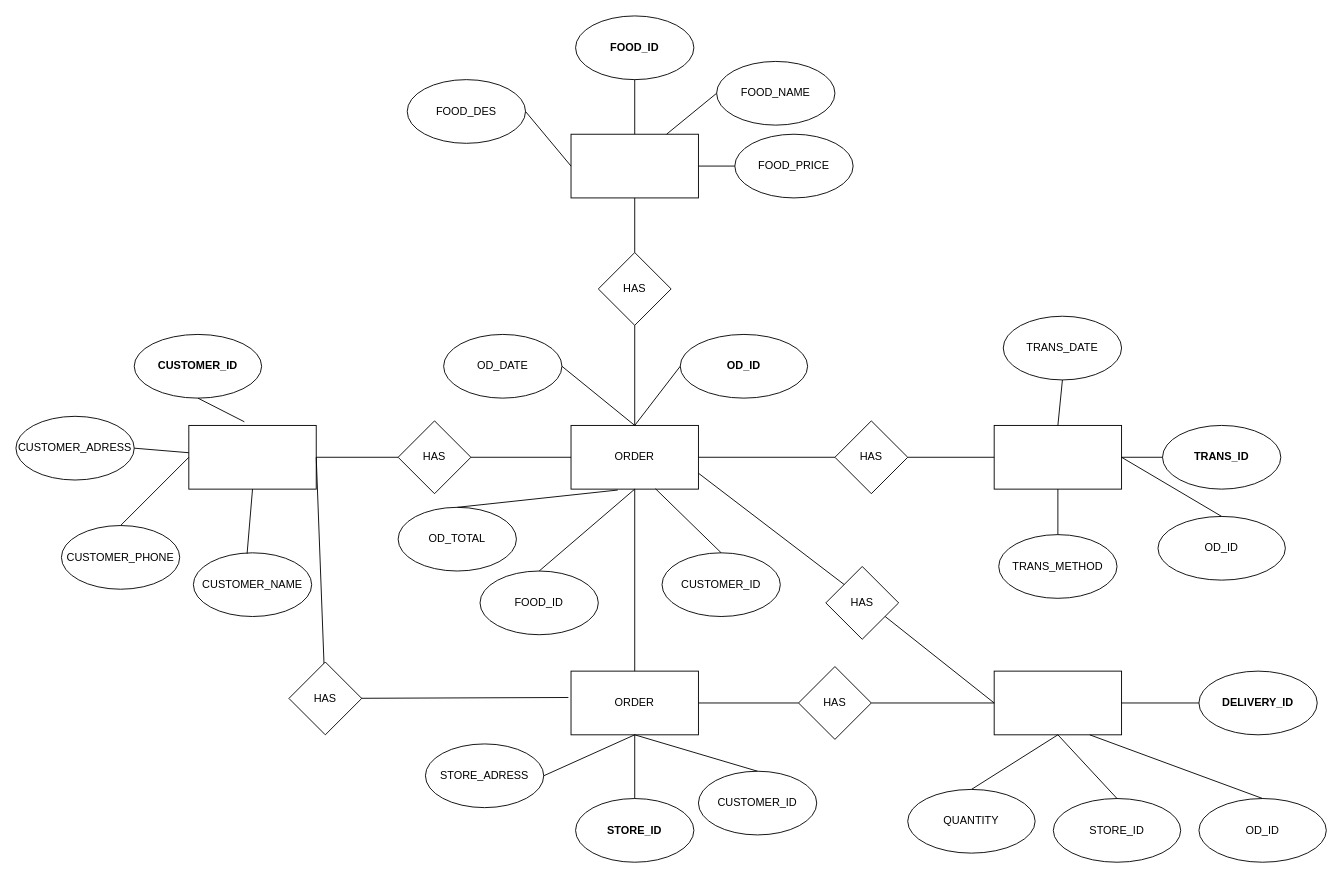
Image size: 1342x878. Some labels were removed from this diagram. Each missing label, with the centre of its shape:
CUSTOMER: (x=252, y=457)
DELIVERY: (x=1057, y=702)
FOOD: (x=634, y=165)
TRANSACTION: (x=1057, y=457)
